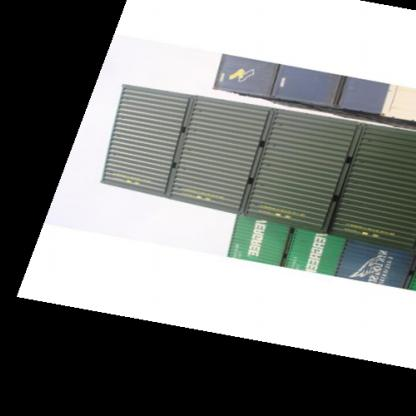Damage: (264, 138, 286, 154), (104, 146, 125, 160), (360, 133, 378, 149)
